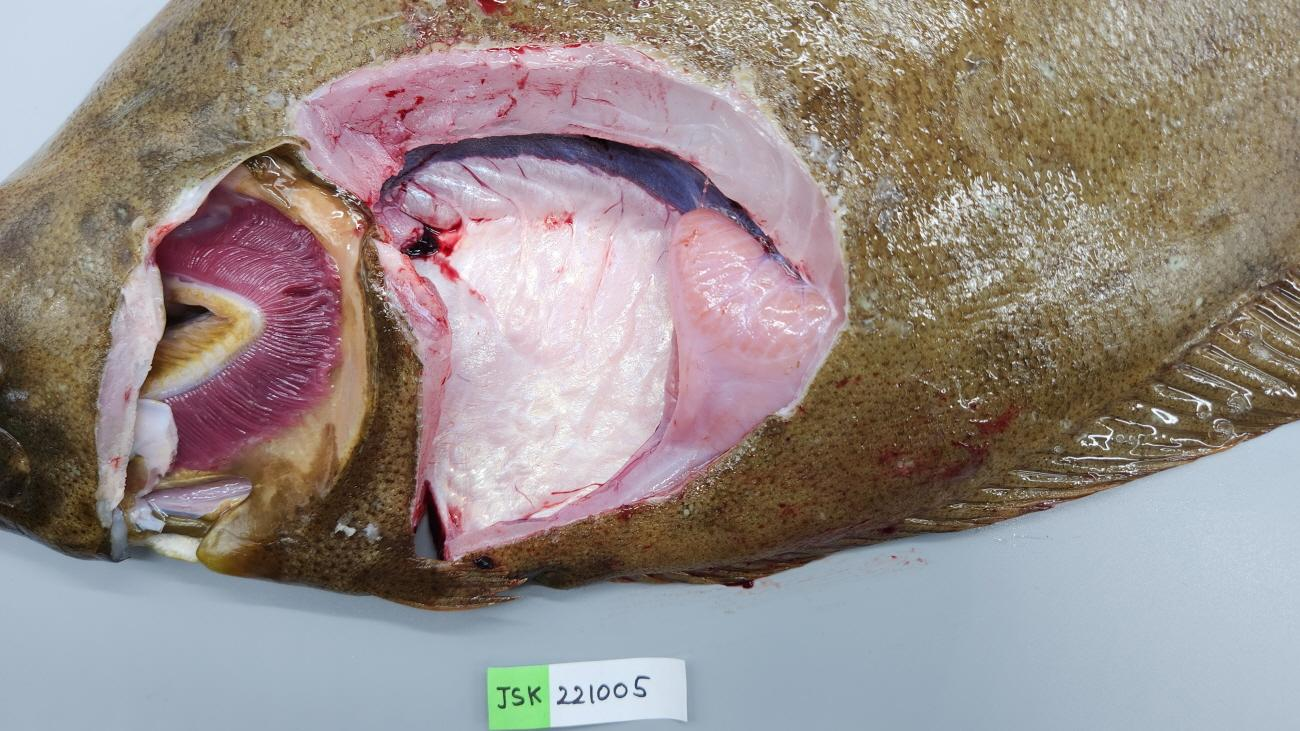POASN: (370, 157, 680, 542)
POREN: (443, 205, 831, 557)
